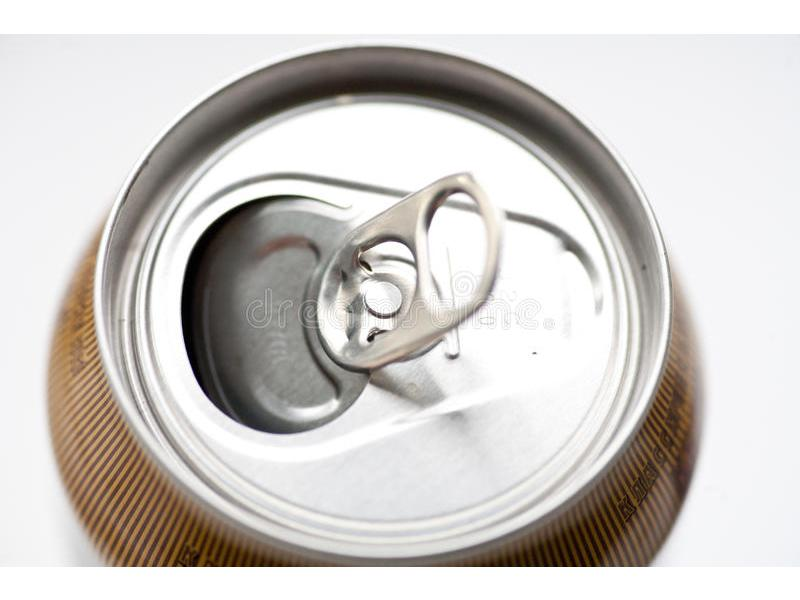can: (42, 37, 713, 568)
